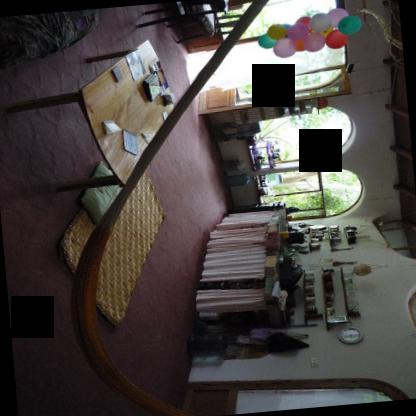handbag: (267, 333, 310, 352)
